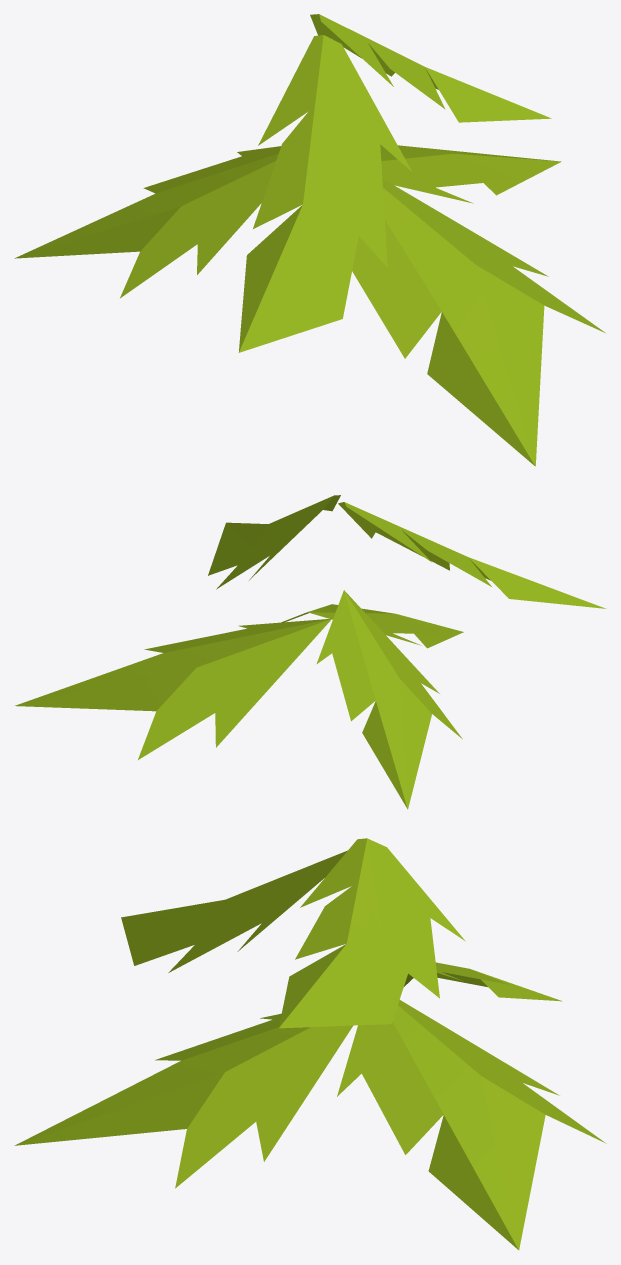
File: Vegetation_Modular_Tree_Foliage_Fir_Piece_01.fbx
3 views of the same model, one above another, from view 1: azimuth 30°, elevation 25°; view 2: azimuth 150°, elevation 25°; view 3: azimuth 270°, elevation 25° (orthographic). The views are drawn at different scales.
Parts seen in each view (by area): view 1: Vegetation_Modular_Tree_Foliage_Fir_Piece_01; view 2: Vegetation_Modular_Tree_Foliage_Fir_Piece_01; view 3: Vegetation_Modular_Tree_Foliage_Fir_Piece_01.
Boxes of the visible parts, left/top/right/bottom form: Vegetation_Modular_Tree_Foliage_Fir_Piece_01: left=14, top=14, right=605, bottom=466; Vegetation_Modular_Tree_Foliage_Fir_Piece_01: left=15, top=495, right=606, bottom=809; Vegetation_Modular_Tree_Foliage_Fir_Piece_01: left=14, top=838, right=606, bottom=1249.
Bounding box in the file's own units: 123 × 69.61 × 126.
